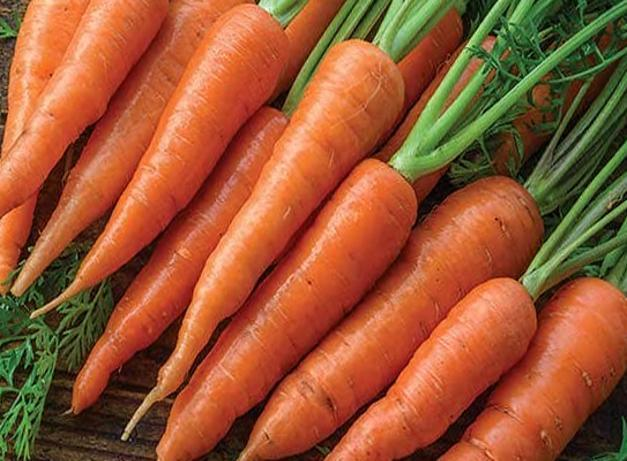carrot: (14, 4, 610, 456), (118, 34, 548, 427)
